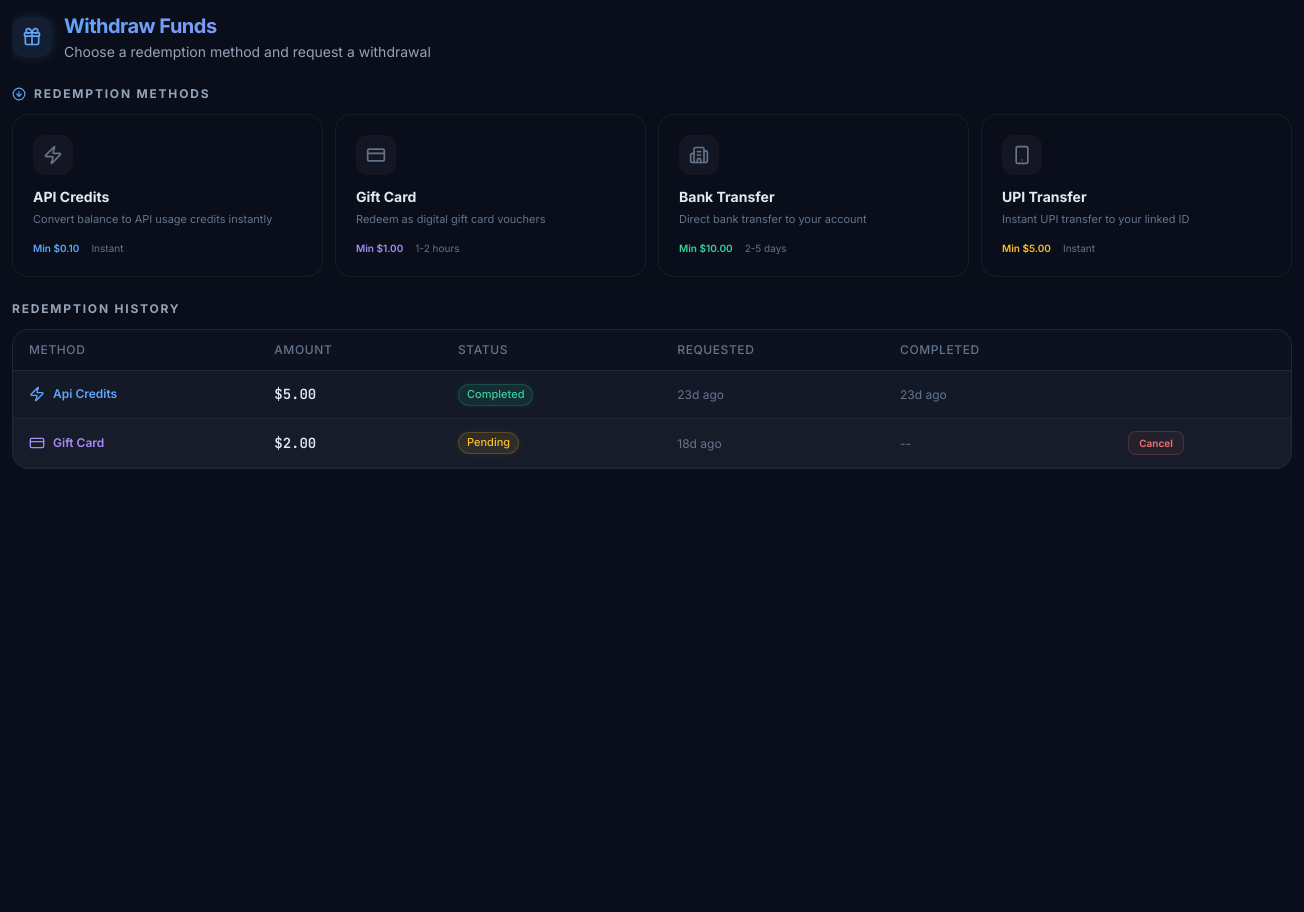
Test case: RedeemPage › shows validation message for gift card minimum
Click the text "Gift Card".
click(386, 196)  # box 356,188 -> 416,205
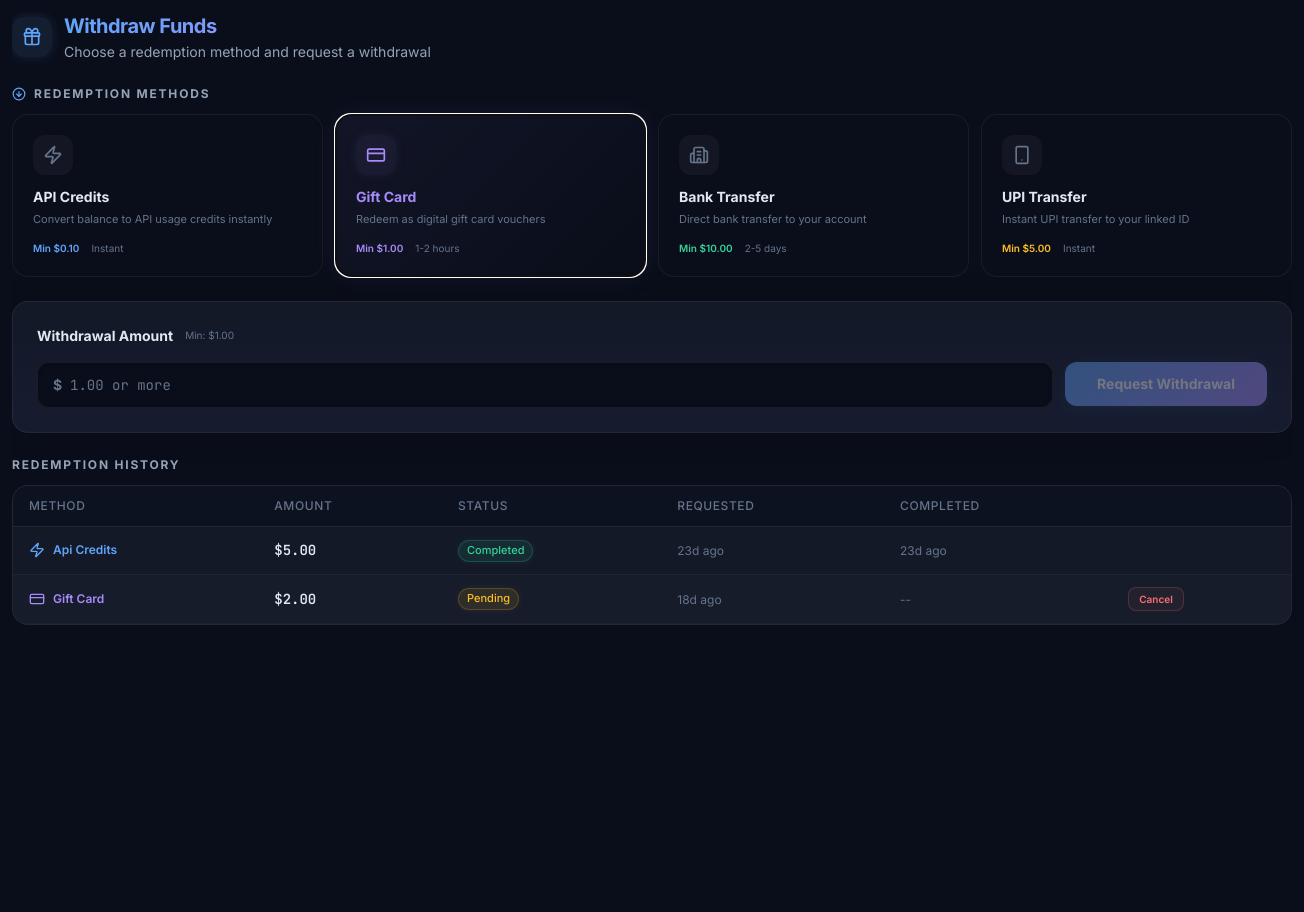
expect the text "Min: $1.00" is shown: met, box 185,328 -> 234,343
Type "0.5" into the number field with placeholder "1.00 or more".
click(545, 385); type("0.5")  # box 37,362 -> 1053,408
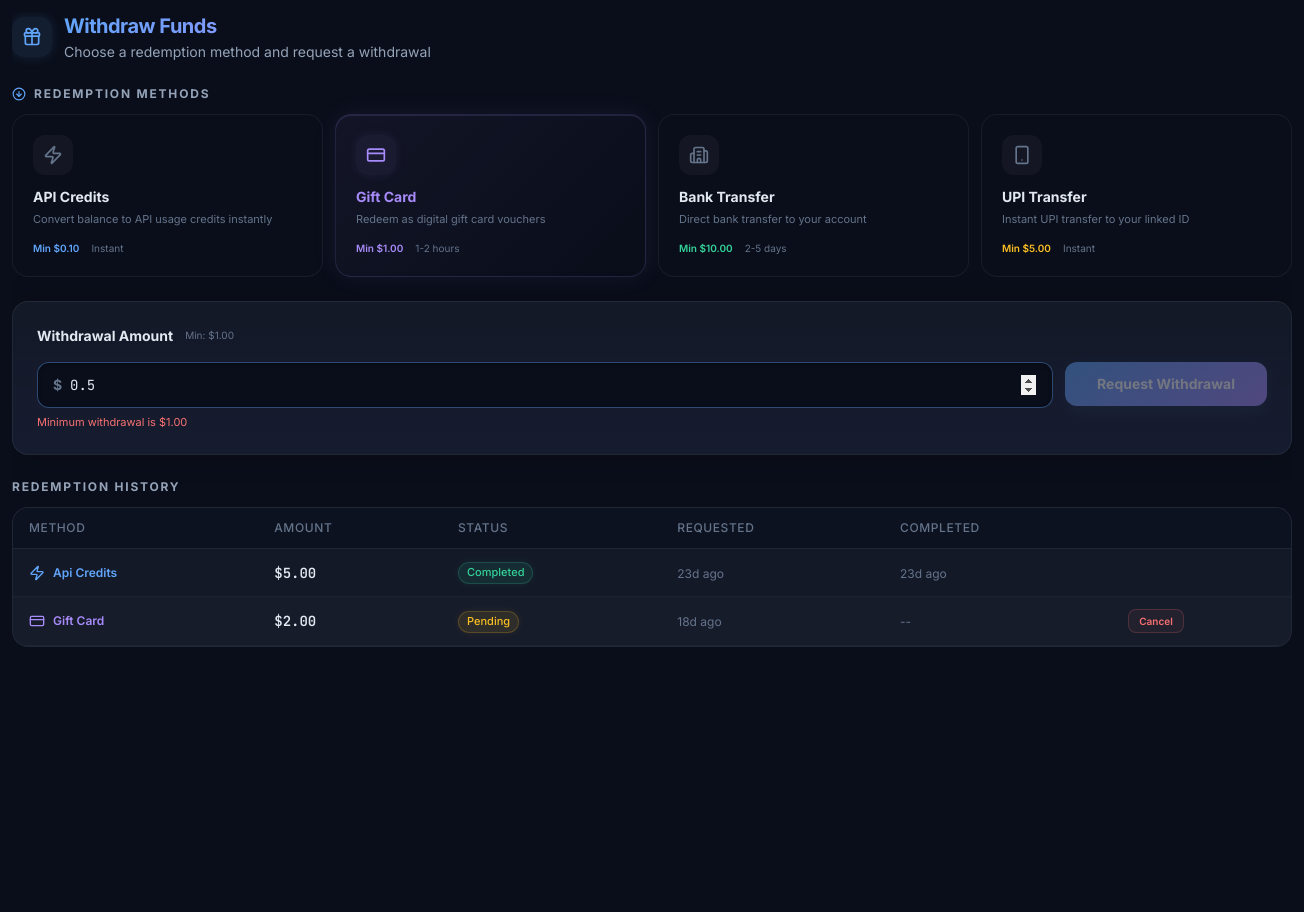
expect the text "Minimum withdrawal is $1.00" is shown: met, box 37,415 -> 187,429
